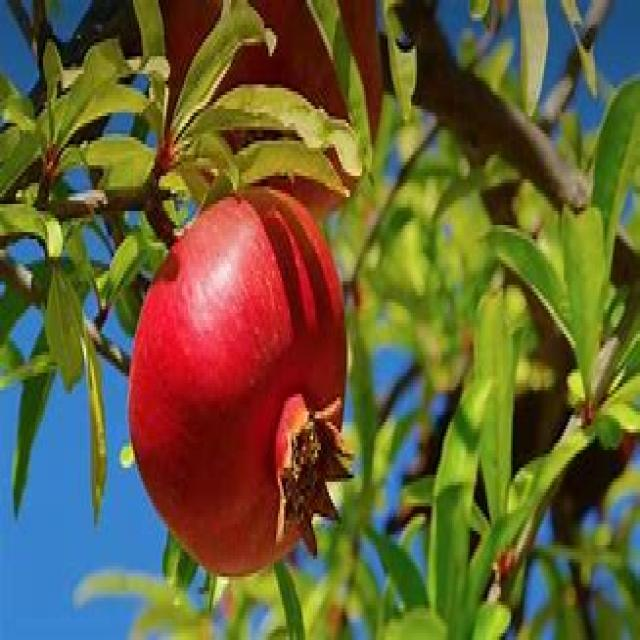Pomegranate: (128, 176, 358, 581)
